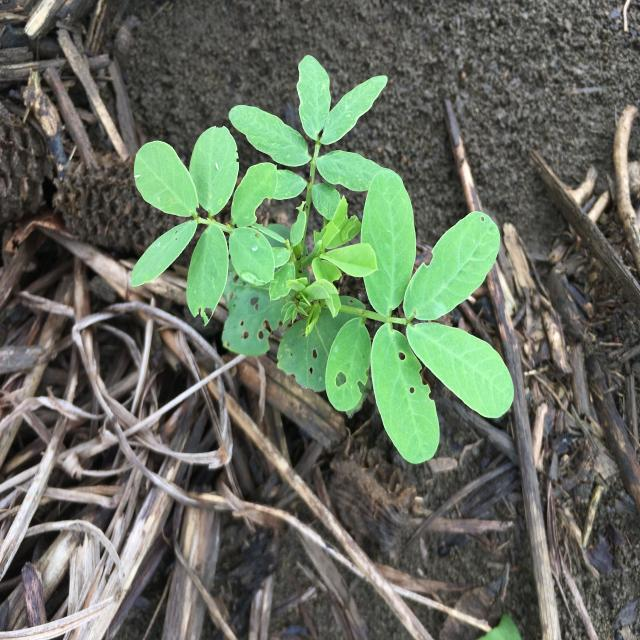Sicklepod: (131, 54, 515, 464)
